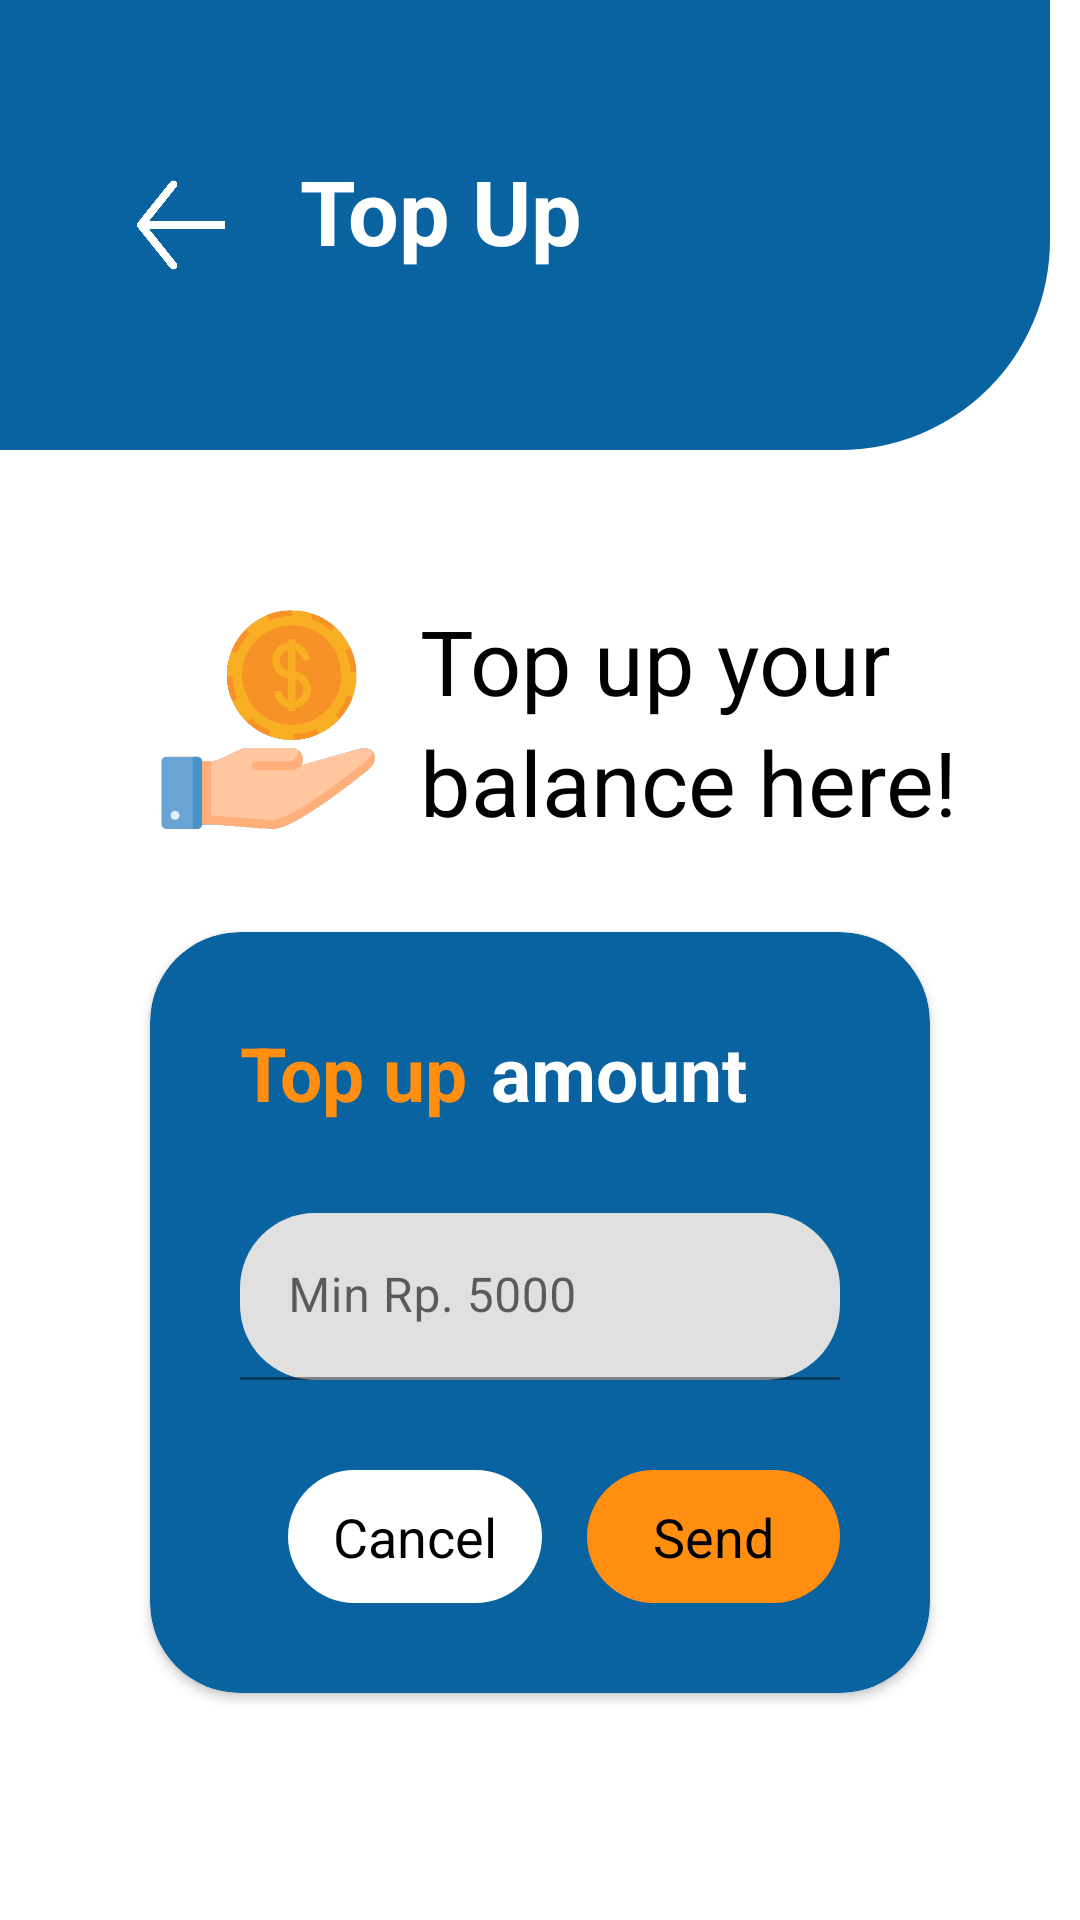

Point at icon controls on the screen. Image size 1080*1920, points as (x=x, y=y).
arrow: (x=181, y=225)
